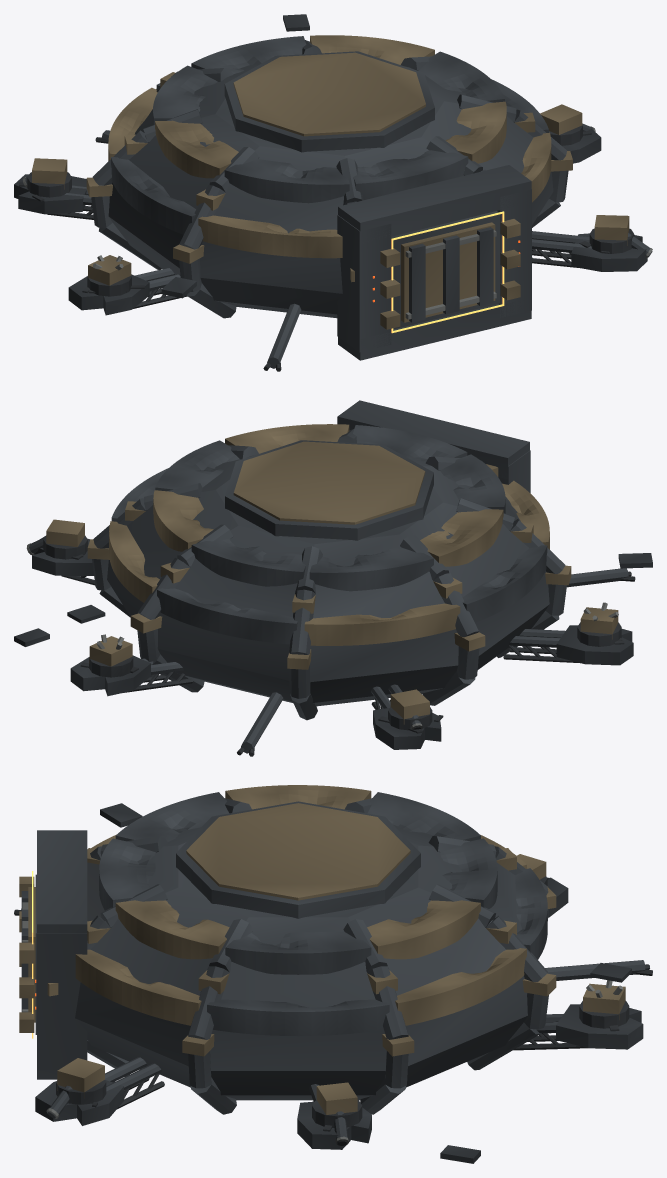
Rendered from quiet_war_vault.glb.
3 views of the same model, one above another, from view 1: azimuth 30°, elevation 25°; view 2: azimuth 150°, elevation 25°; view 3: azimuth 270°, elevation 25° (orthographic). The views are drawn at different scales.
Parts seen in each view (by area): view 1: Core armour | Gunmetal armour, Core armour | Dull bronze armour, VaultDoor, Dead perimeter | Gunmetal armour, Dead perimeter | Scorched recesses, Dead perimeter | Dull bronze armour, Door seam | Sealed door seam, LoosePlate_01 | Gunmetal armour; view 2: Core armour | Gunmetal armour, Core armour | Dull bronze armour, Dead perimeter | Gunmetal armour, Dead perimeter | Scorched recesses, Dead perimeter | Dull bronze armour, LoosePlate_01 | Gunmetal armour; view 3: Core armour | Gunmetal armour, Core armour | Dull bronze armour, Dead perimeter | Gunmetal armour, Dead perimeter | Scorched recesses, Dead perimeter | Dull bronze armour, VaultDoor, Entrance recess | Scorched recesses, LoosePlate_01 | Gunmetal armour, LoosePlate_02 | Gunmetal armour, LoosePlate_03 | Gunmetal armour.
Boxes of the visible parts, x1,y1,x2,y2 form: Core armour | Gunmetal armour: (91,36,568,360); Core armour | Dull bronze armour: (86,35,572,329); VaultDoor: (391,211,499,329); Dead perimeter | Gunmetal armour: (14,123,650,368); Dead perimeter | Scorched recesses: (19,125,652,371); Dead perimeter | Dull bronze armour: (32,104,629,285); Door seam | Sealed door seam: (391,211,504,333); LoosePlate_01 | Gunmetal armour: (161,277,196,298); Core armour | Gunmetal armour: (92,400,566,720); Core armour | Dull bronze armour: (87,424,571,669); Dead perimeter | Gunmetal armour: (29,536,633,753); Dead perimeter | Scorched recesses: (43,535,635,756); Dead perimeter | Dull bronze armour: (46,519,618,724); LoosePlate_01 | Gunmetal armour: (618,553,652,568); Core armour | Gunmetal armour: (37,792,549,1114); Core armour | Dull bronze armour: (19,785,556,1056); Dead perimeter | Gunmetal armour: (21,877,645,1149); Dead perimeter | Scorched recesses: (14,876,652,1145); Dead perimeter | Dull bronze armour: (57,854,625,1114); VaultDoor: (21,874,36,1034); Entrance recess | Scorched recesses: (87,862,104,921); LoosePlate_01 | Gunmetal armour: (100,803,142,827); LoosePlate_02 | Gunmetal armour: (590,963,631,982); LoosePlate_03 | Gunmetal armour: (440,1145,480,1163).
Bounding box in the file's own units: 500 × 142 × 438.
